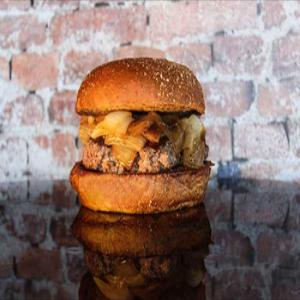cheeseburger: (68, 52, 218, 219)
